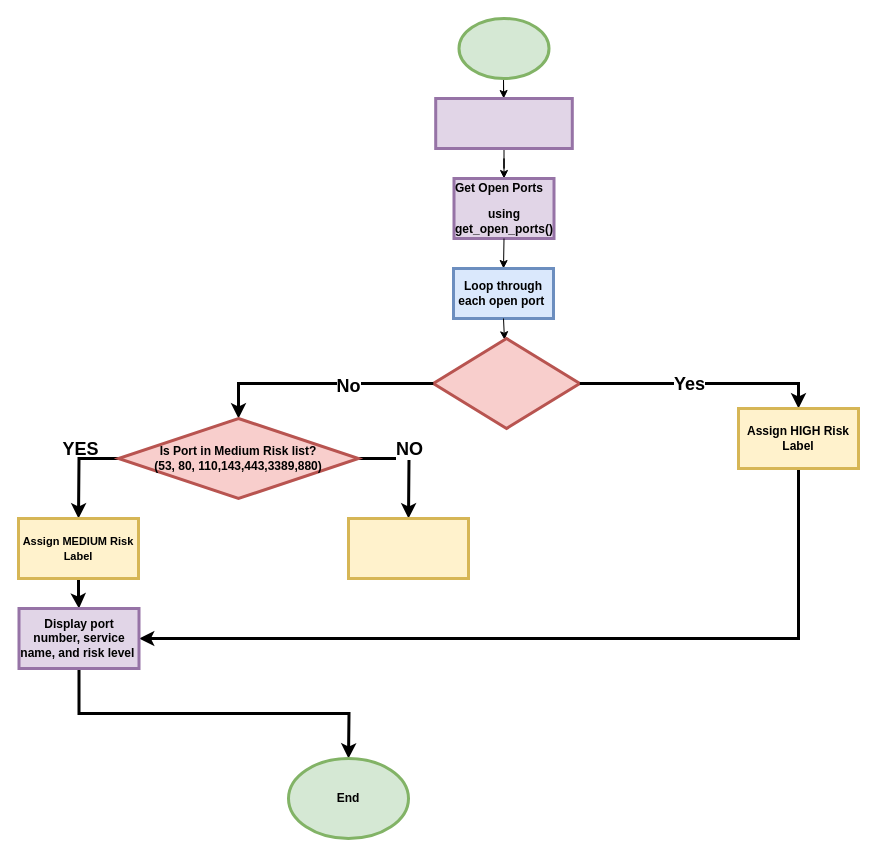
This 877x857 diagram has some shape labels left out. Here are the shapes that lost their labels. From the top down, the centre of each, then its label:
point (503, 48): Start
point (503, 123): Scan Ports using scan_range()
point (506, 383): High Risk? (e.g. 21 , 22 , 23, 25 )
point (408, 548): Assign LOW Risk Label
